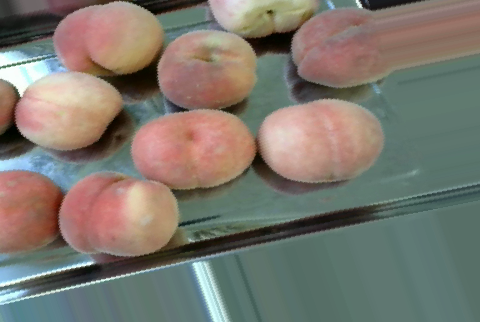Peach: (256, 96, 384, 183), (128, 110, 257, 190), (57, 173, 177, 256), (13, 73, 127, 150), (158, 26, 257, 110), (53, 2, 163, 75), (293, 9, 388, 88), (0, 169, 62, 248), (210, 0, 324, 40)
